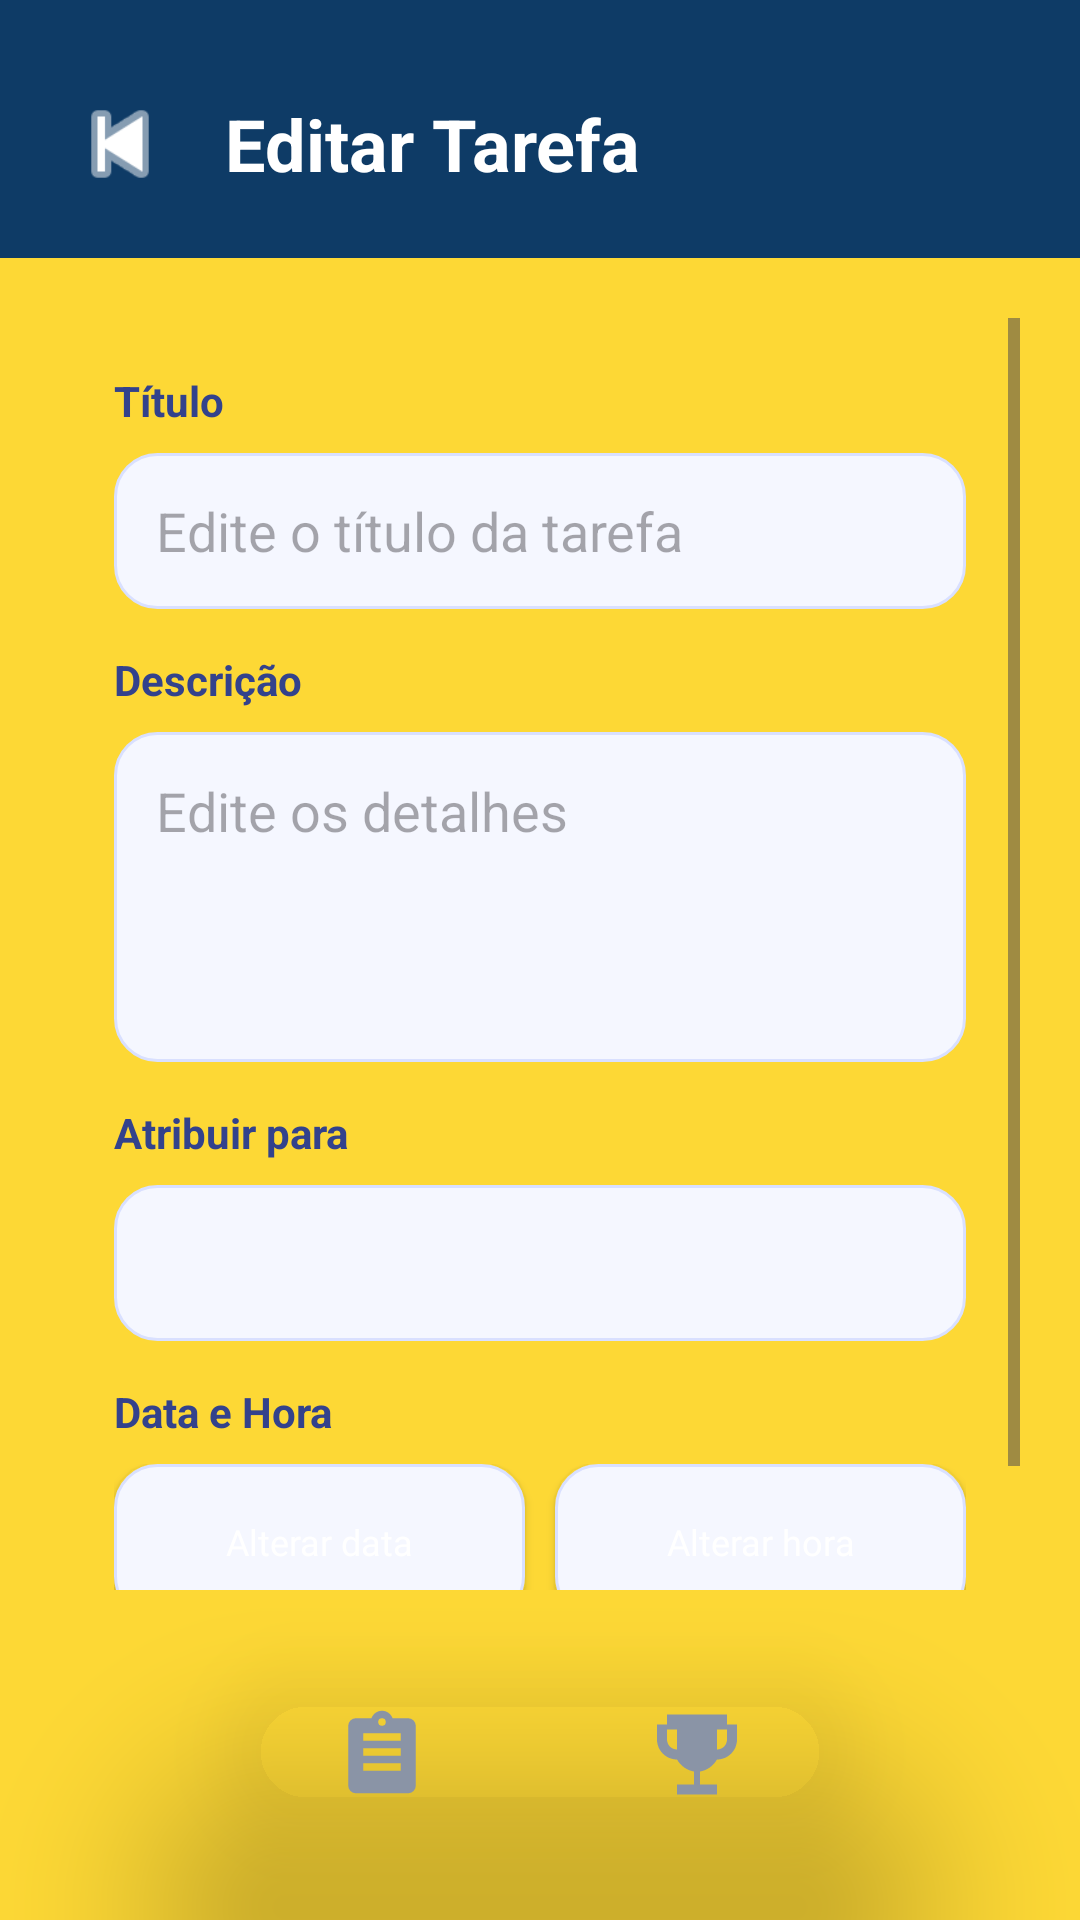

Icons on this 1080x1920 Android screen, each with its box as (x1, y1, x2, y2):
previous: (91, 110, 149, 178)
